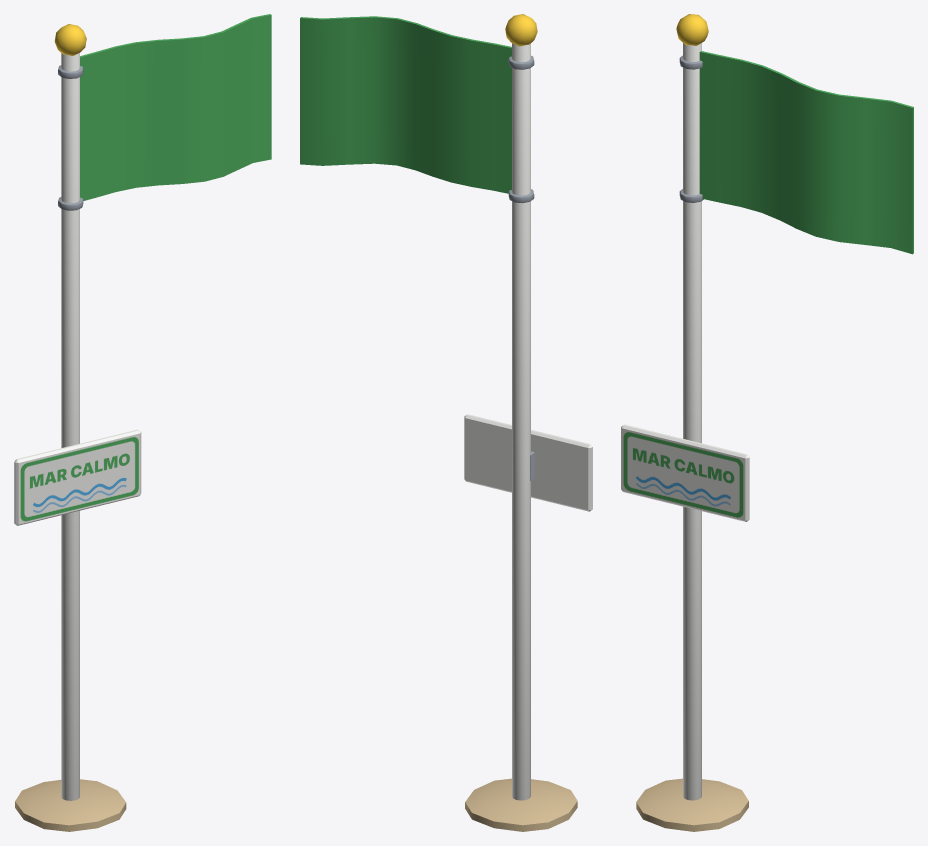
Rendered from bandeira_aviso_verde.glb.
3 renders of one model, left to right at view 1: azimuth 30°, elevation 25°; view 2: azimuth 150°, elevation 25°; view 3: azimuth 330°, elevation 25°, orthographic.
Visible parts, largest first — view 1: bandeira, bandeira_aviso_verde; view 2: bandeira, bandeira_aviso_verde; view 3: bandeira, bandeira_aviso_verde.
Boxes of the visible parts, box(x1,y1,x2,y2) form: bandeira: box(58, 14, 271, 210); bandeira_aviso_verde: box(14, 24, 141, 831); bandeira: box(300, 16, 534, 203); bandeira_aviso_verde: box(464, 14, 592, 831); bandeira: box(679, 51, 913, 254); bandeira_aviso_verde: box(621, 14, 749, 831).
Size of the model in its own units: 1.34 by 3.71 by 0.4611.
2 materials, 2 textured.
